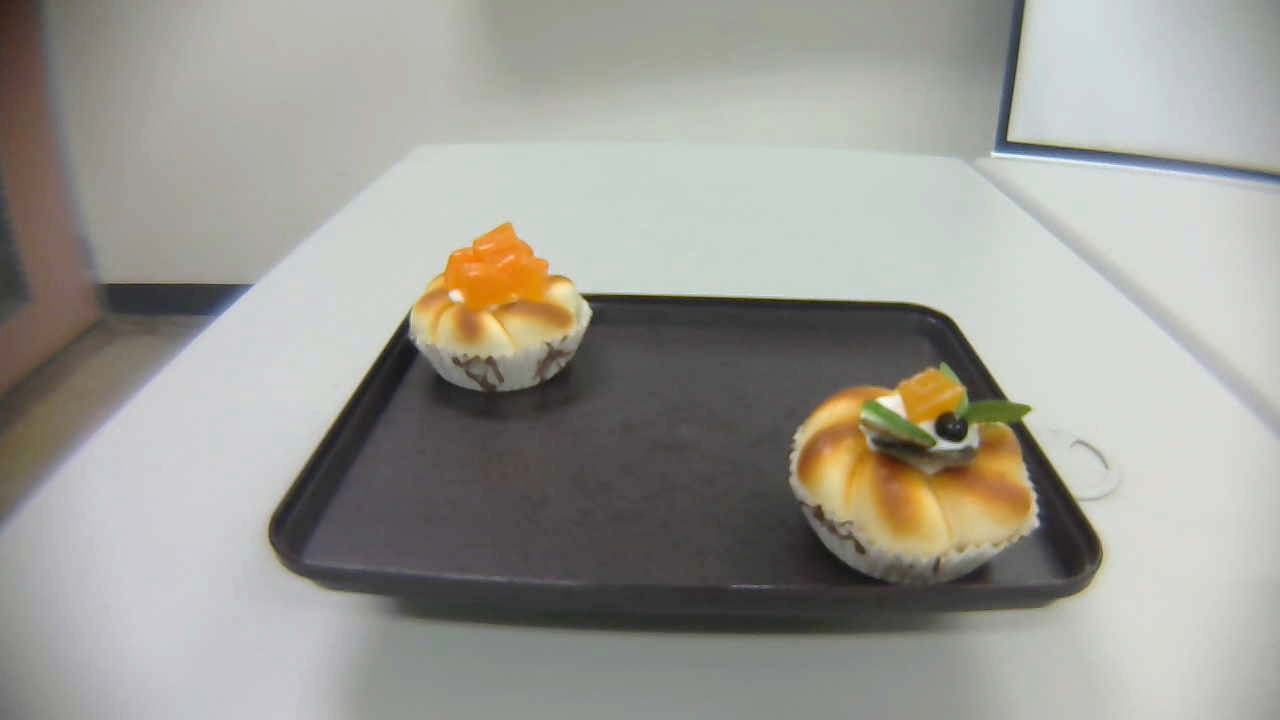fruit tart: (786, 360, 1044, 588)
mango tart: (405, 220, 593, 395)
